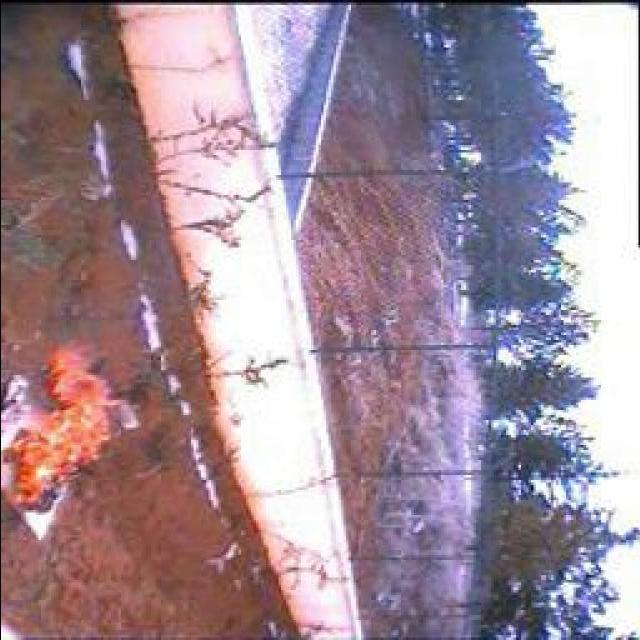Fire: (0, 344, 138, 518)
